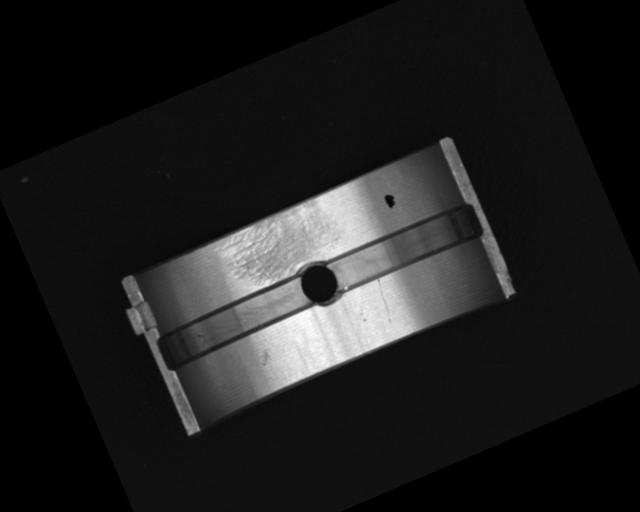blot: (381, 191, 399, 211)
bruise: (255, 348, 274, 368)
gap: (151, 271, 317, 371), (323, 198, 484, 296)
hole: (292, 253, 347, 315)
nick: (372, 277, 393, 315)
scratch: (213, 193, 349, 298)
